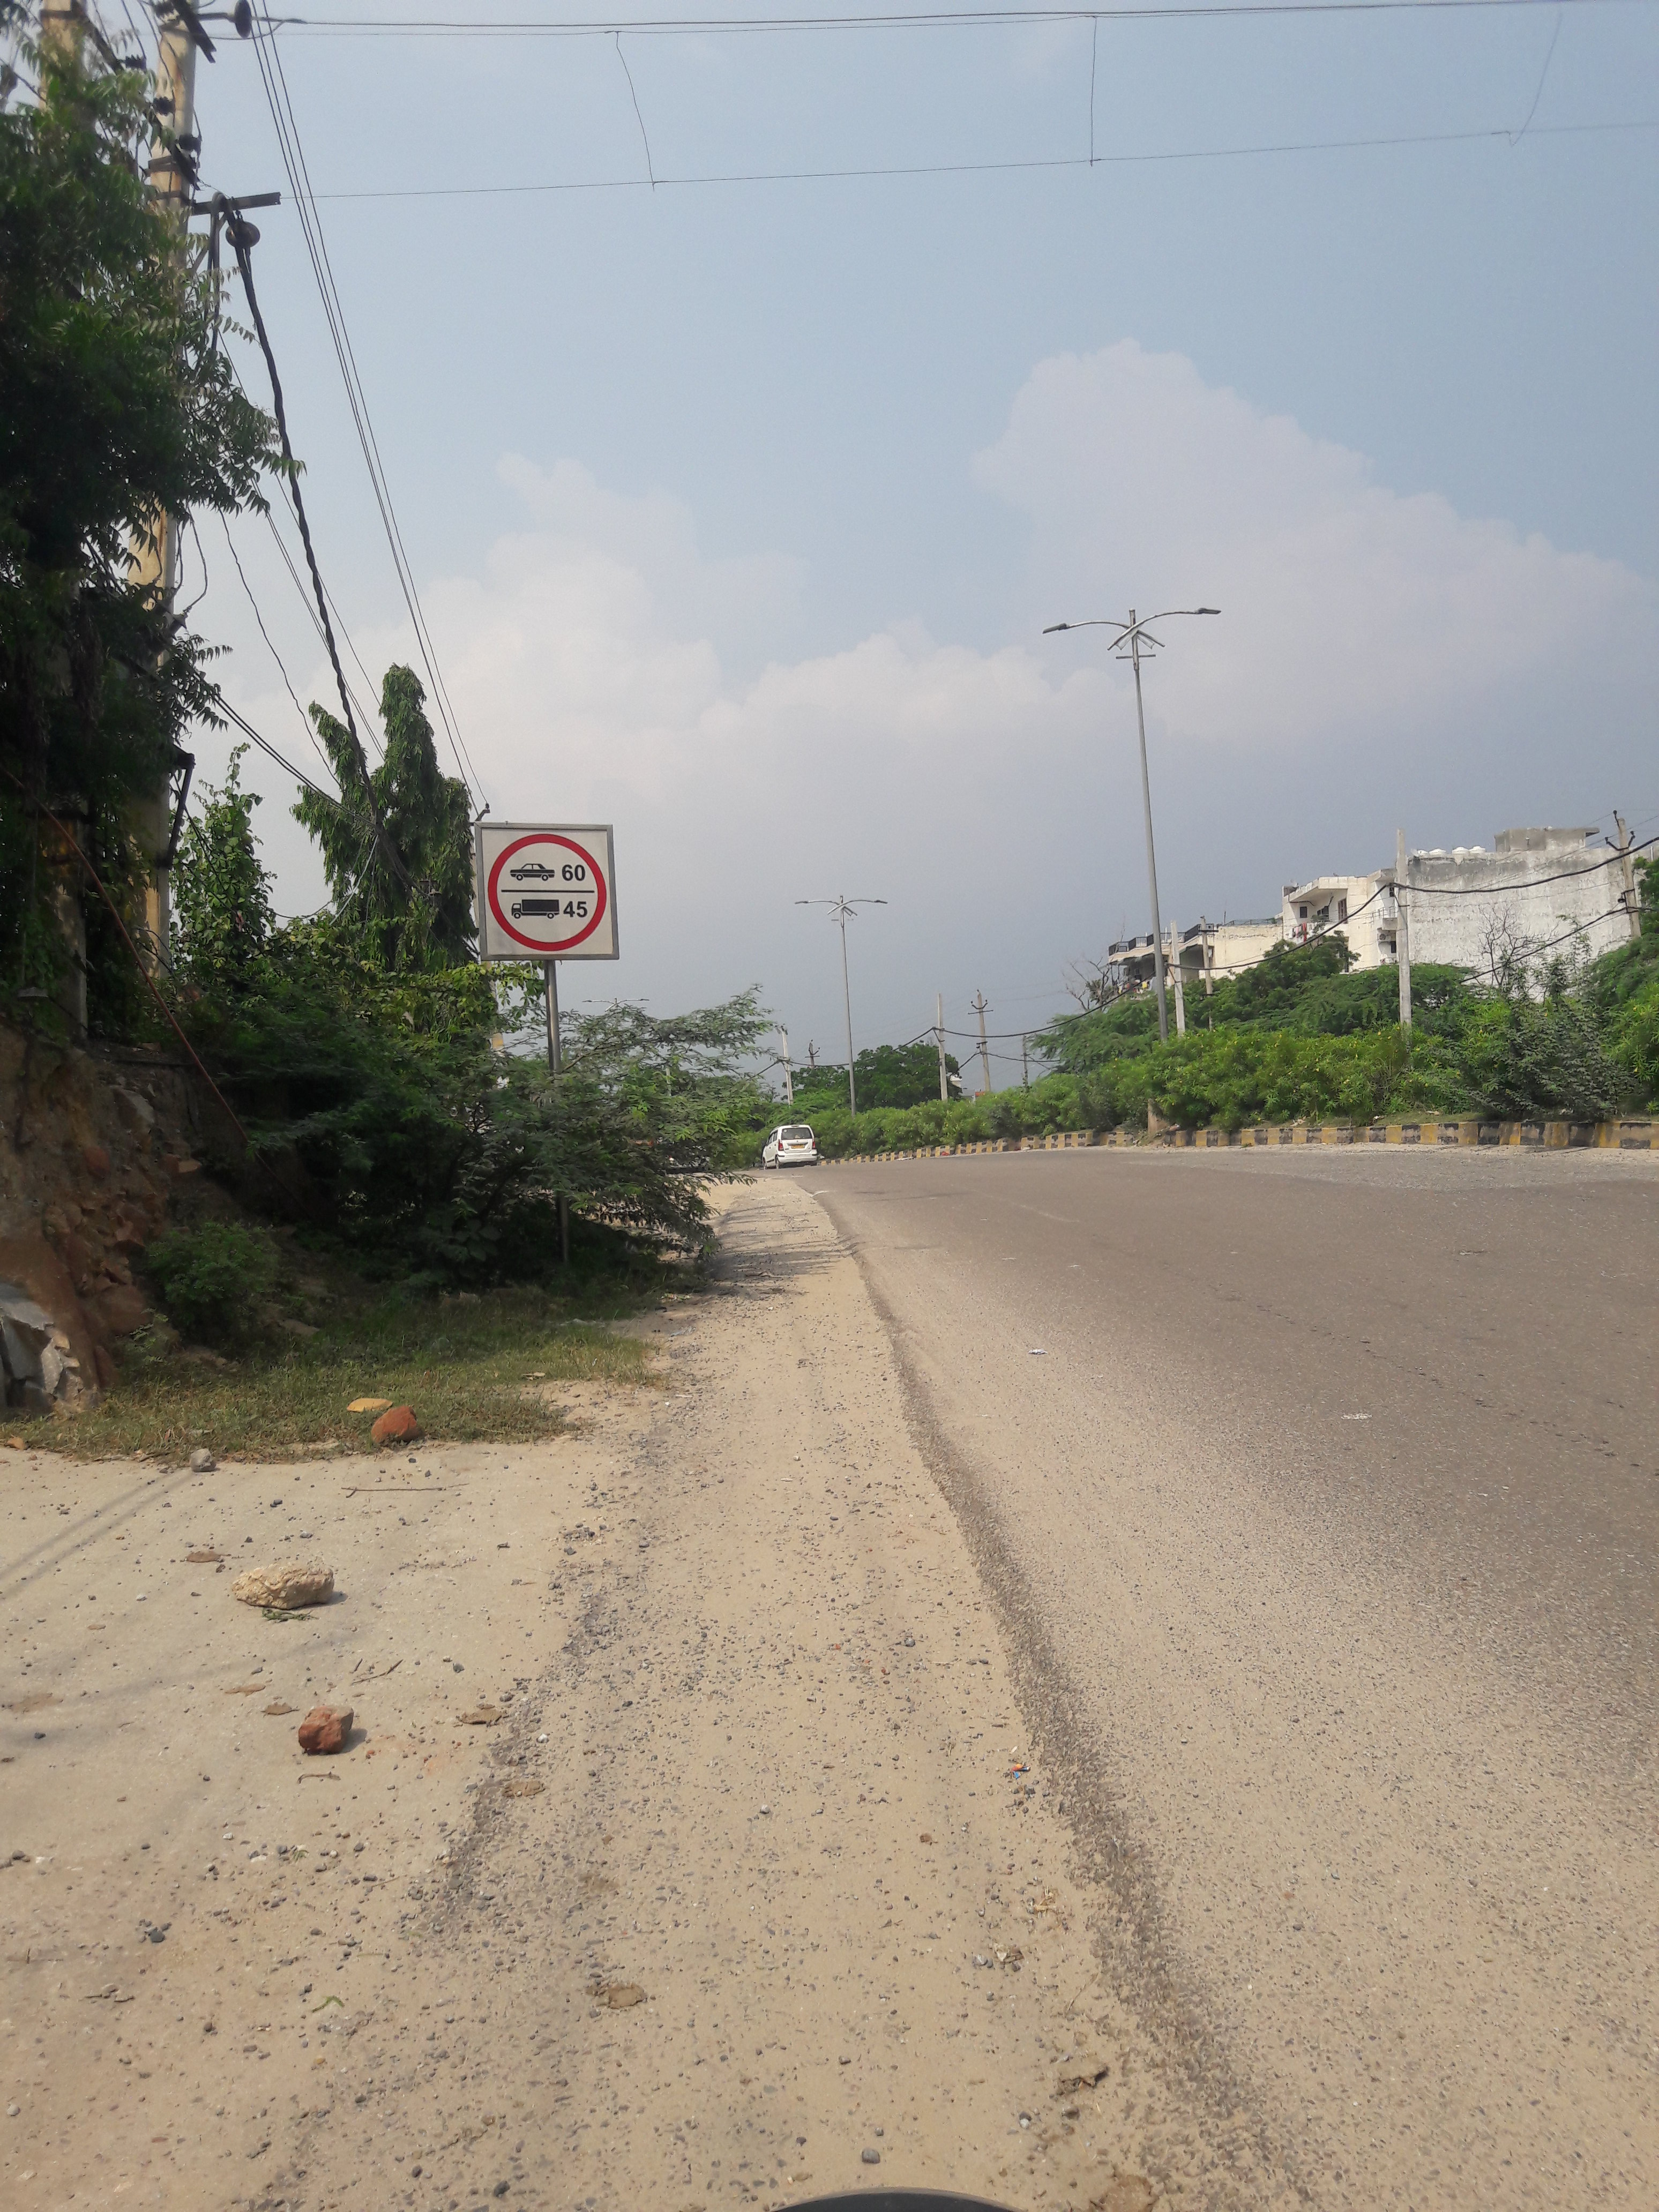traffic_sign: (477, 820, 620, 960)
